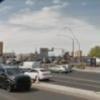cars: (0, 65, 31, 93), (24, 67, 52, 82), (49, 65, 68, 74)
